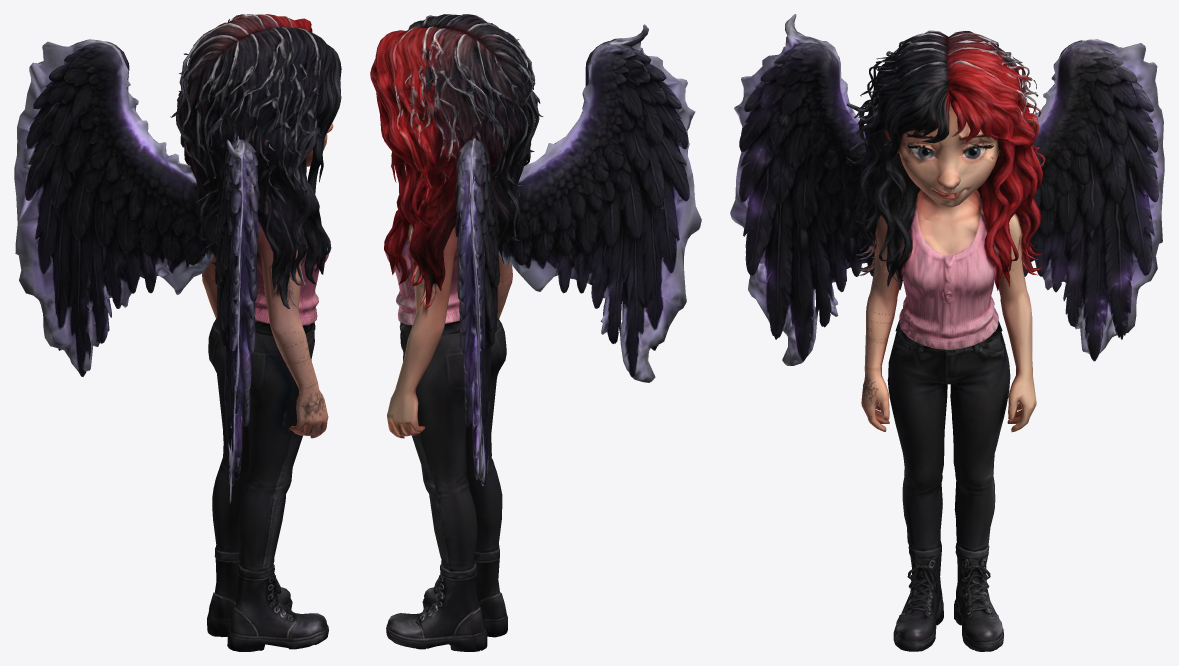
File: aimmianna-mobile.glb
The picture shows the model from 3 angles, left to right: view 1: azimuth 30°, elevation 25°; view 2: azimuth 150°, elevation 25°; view 3: azimuth 270°, elevation 25°; orthographic projection. The views are drawn at different scales.
Parts seen in each view (by area): view 1: tripo_node_32cddf9f-81b5-40a9-8fbe-3ff0fb6a9212; view 2: tripo_node_32cddf9f-81b5-40a9-8fbe-3ff0fb6a9212; view 3: tripo_node_32cddf9f-81b5-40a9-8fbe-3ff0fb6a9212.
Part boxes in pixels (left/top/right/bottom): tripo_node_32cddf9f-81b5-40a9-8fbe-3ff0fb6a9212: left=14, top=14, right=341, bottom=651; tripo_node_32cddf9f-81b5-40a9-8fbe-3ff0fb6a9212: left=370, top=14, right=701, bottom=651; tripo_node_32cddf9f-81b5-40a9-8fbe-3ff0fb6a9212: left=730, top=14, right=1164, bottom=651.
Size of the model in its own units: 0.3531 by 0.9783 by 0.6491.
Materials: 1 (1 with a texture image).
